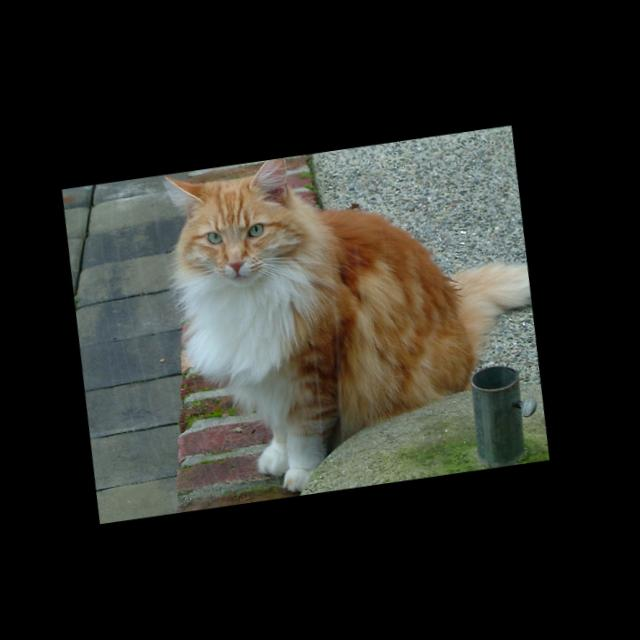animals: (162, 156, 299, 280)
